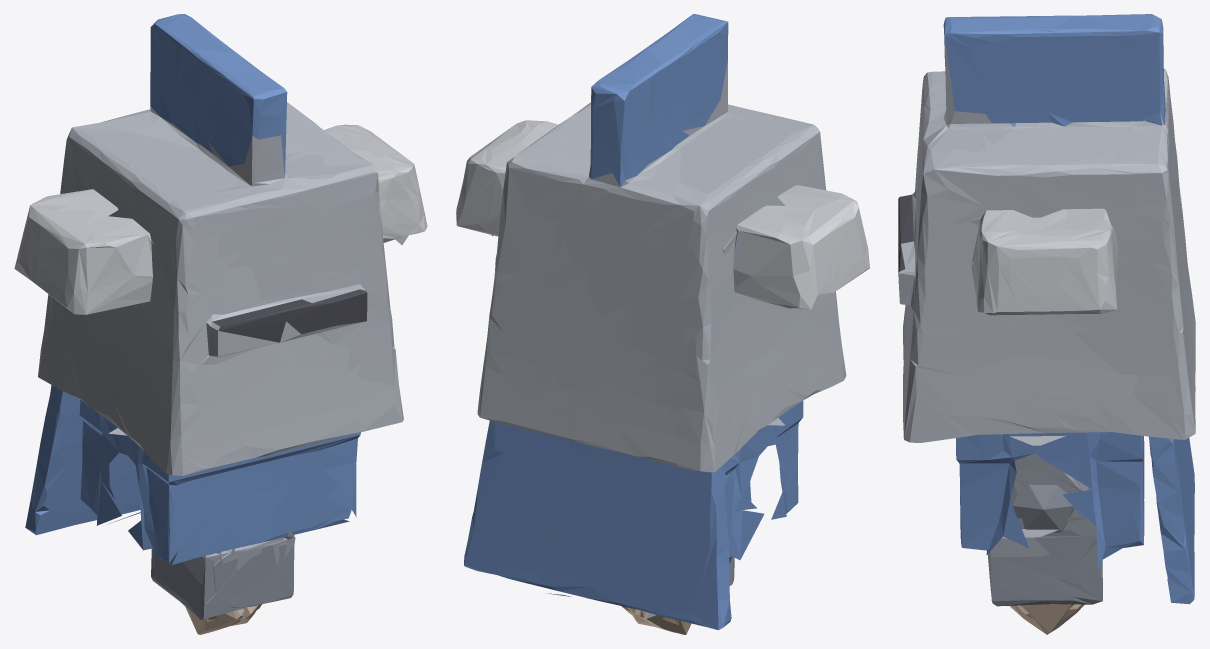
The model's file is knight.glb.
3 views of the same model, side by side, from view 1: azimuth 30°, elevation 25°; view 2: azimuth 150°, elevation 25°; view 3: azimuth 270°, elevation 25° (orthographic). The views are drawn at different scales.
Parts seen in each view (by area): view 1: head, torso, legL_l, legR_l, armR_l; view 2: head, torso, armR_l; view 3: head, torso, legR_l, legL_u, armL_l, legL_l.
Boxes of the visible parts, x1,y1,x2,y2 form: head: [38, 14, 403, 475]; torso: [14, 124, 427, 564]; legL_l: [151, 528, 294, 619]; legR_l: [109, 512, 295, 608]; armR_l: [185, 604, 261, 634]; head: [477, 14, 846, 472]; torso: [456, 120, 869, 630]; armR_l: [621, 606, 691, 634]; head: [898, 14, 1195, 445]; torso: [956, 208, 1194, 604]; legR_l: [988, 472, 1102, 606]; legL_u: [1014, 453, 1082, 493]; armL_l: [1009, 604, 1084, 634]; legL_l: [987, 509, 1096, 593].
Size of the model in its own units: 1.11 by 1.69 by 0.7569.
